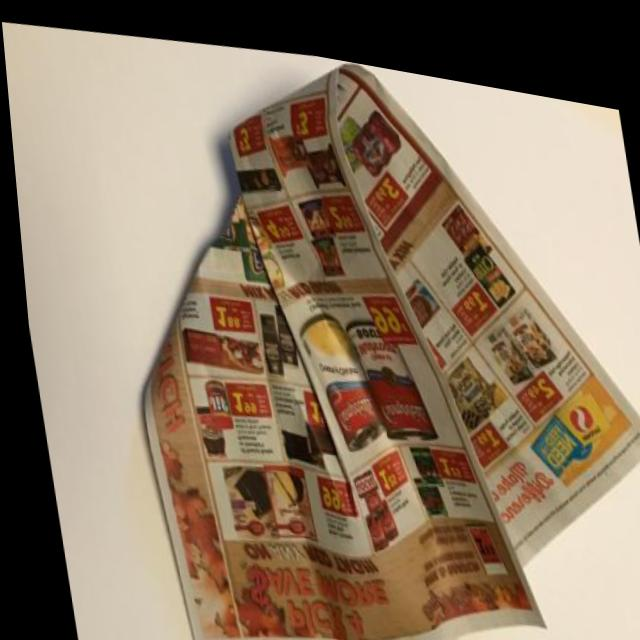paper: (64, 9, 640, 640)
